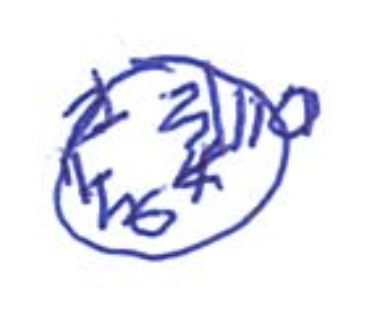contour: (50, 52, 292, 265)
